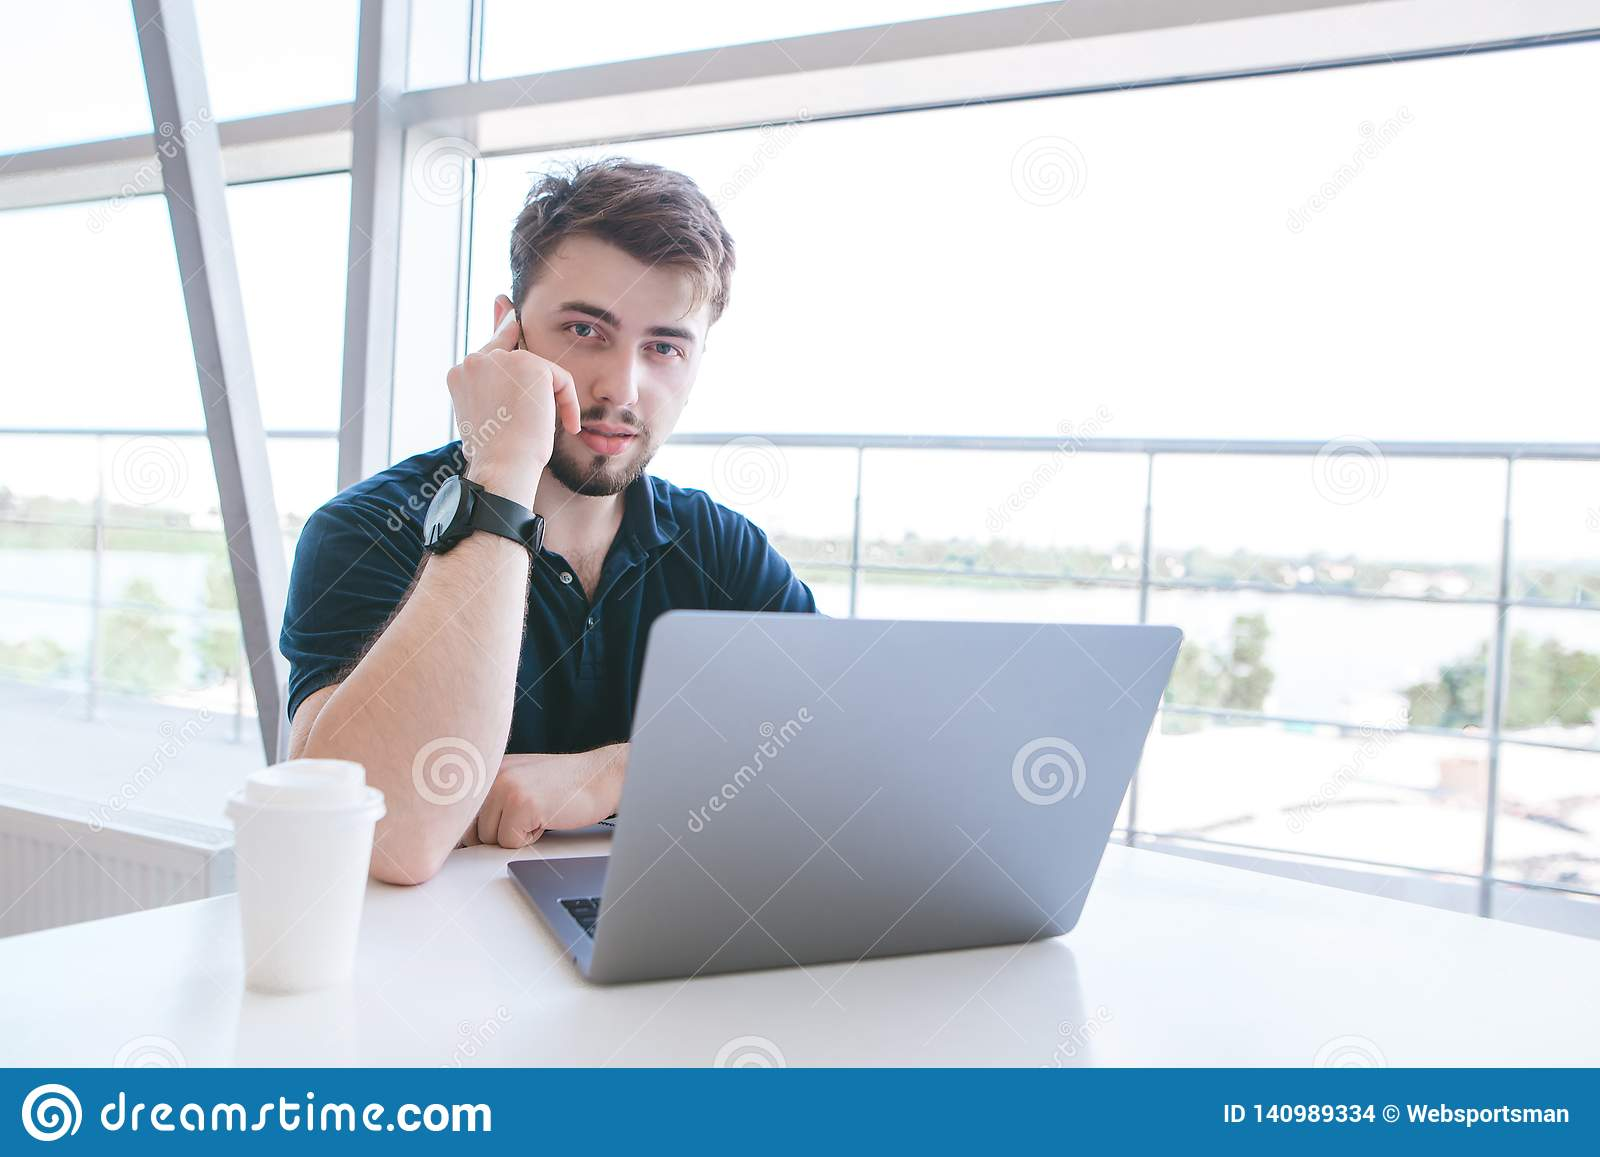talk: (445, 297, 698, 503)
